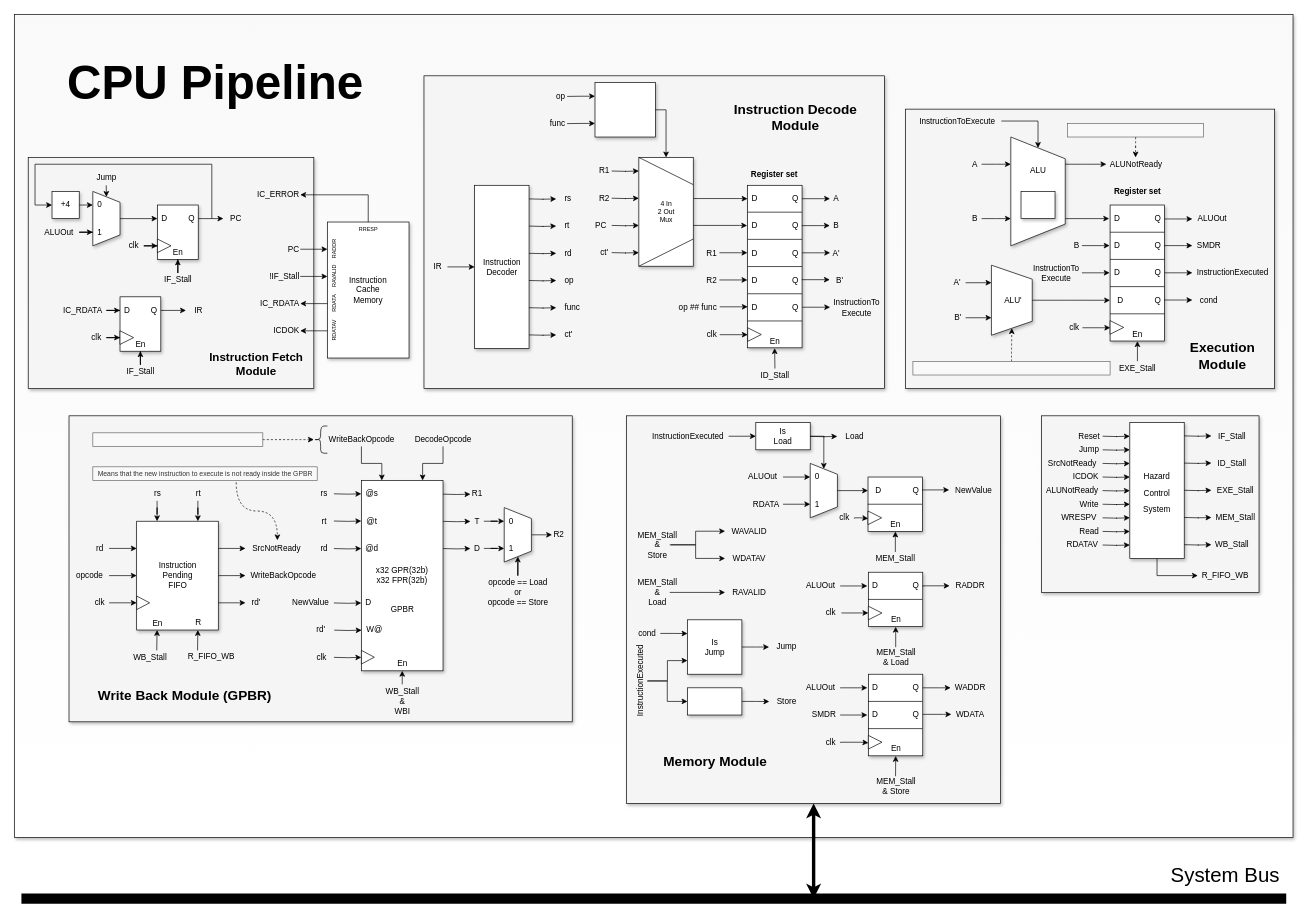
Some shapes in this 1309 by 918 pixel diagram are drawn without their labels. Each missing label, with the centre of its shape:
Contains the few operations to calculate the result of a branch: [1011,368]
FPU: [1038,205]
Indicates if the @ registers reffers to the GPR or FPR: [177,439]
Instruction Operand Selector: [626,110]
Is Store: [715,702]
Value is 0 when result is not yet computed: [1135,130]
